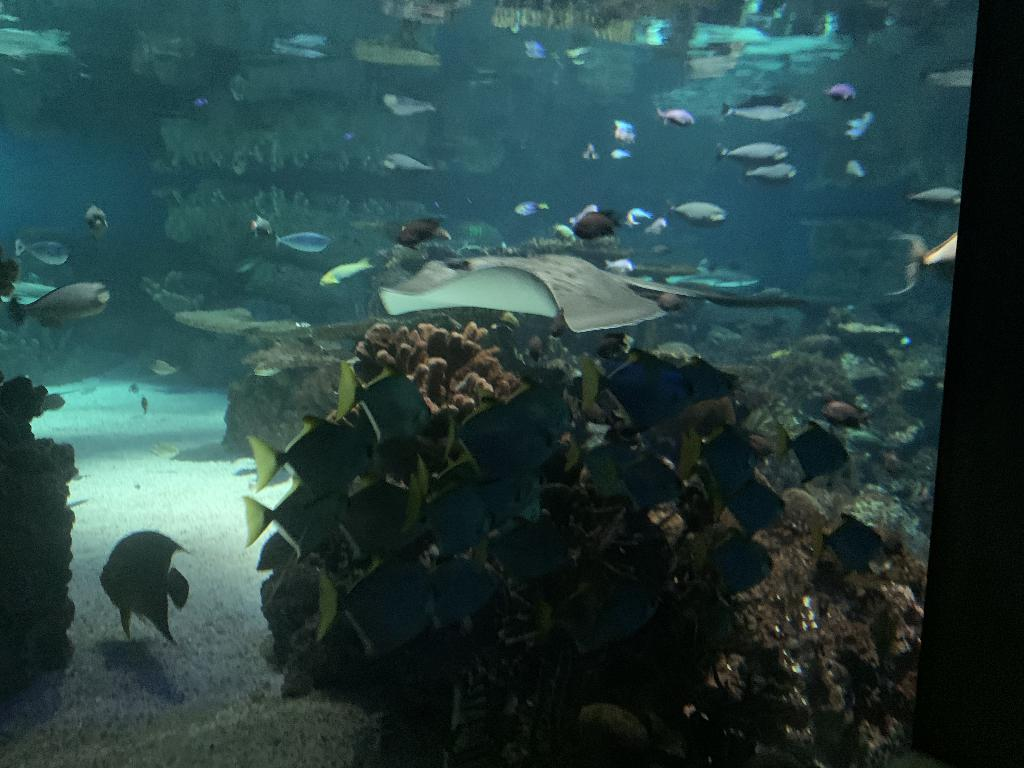fish: (306, 554, 434, 658), (539, 550, 659, 658), (242, 402, 368, 502), (95, 526, 193, 646), (322, 468, 430, 566), (576, 345, 692, 435), (444, 392, 554, 484), (398, 534, 504, 628), (234, 476, 346, 564), (469, 505, 577, 587), (580, 498, 676, 584), (329, 360, 433, 438), (404, 464, 496, 548), (7, 275, 113, 341), (771, 410, 851, 488), (562, 428, 642, 505), (351, 424, 439, 492), (171, 300, 313, 342), (814, 506, 896, 578), (610, 442, 680, 522), (694, 420, 762, 498), (663, 354, 739, 418), (703, 527, 777, 589), (672, 584, 738, 652), (722, 476, 786, 534), (904, 228, 968, 274), (816, 388, 870, 436), (723, 92, 807, 122), (668, 192, 730, 232), (315, 256, 377, 290), (717, 140, 789, 166), (272, 230, 332, 258), (571, 208, 621, 240), (14, 238, 70, 266), (744, 162, 796, 190), (908, 183, 964, 209), (384, 149, 434, 175), (384, 94, 436, 116), (84, 200, 114, 238), (248, 212, 278, 240), (656, 108, 696, 128), (824, 82, 856, 102), (146, 357, 176, 375)
stingray: (378, 243, 668, 334)
